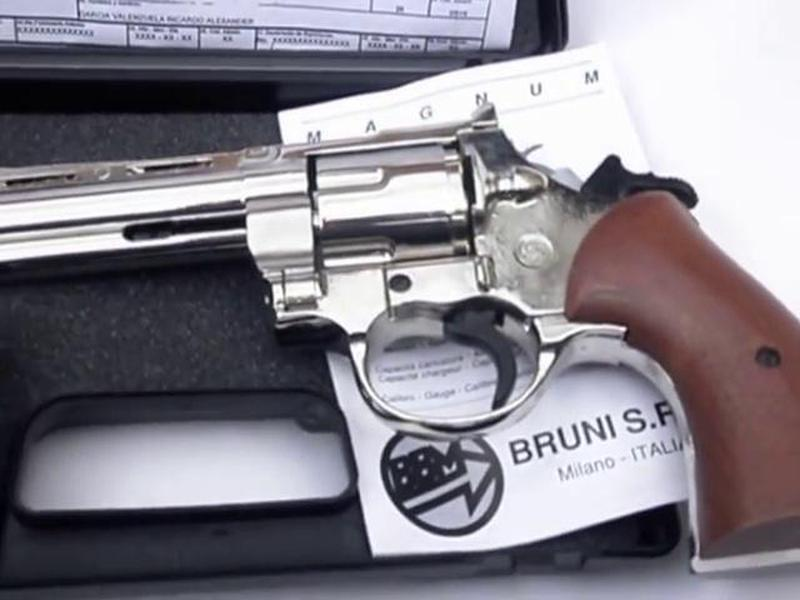Revolver: (25, 115, 717, 424)
